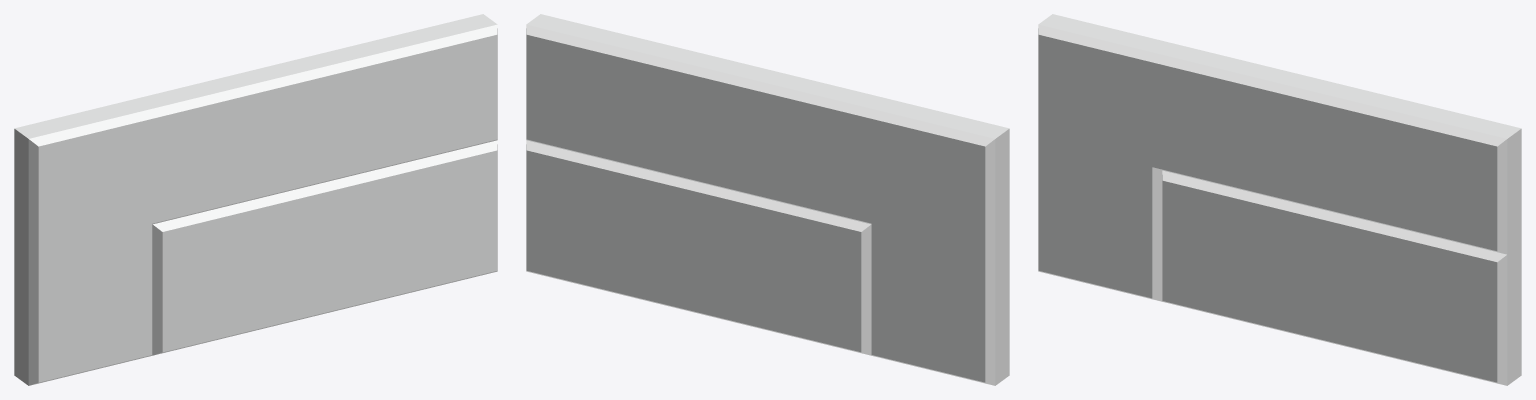
File: hinge.glb
3 renders of one model, left to right at view 1: azimuth 30°, elevation 25°; view 2: azimuth 150°, elevation 25°; view 3: azimuth 330°, elevation 25°, orthographic.
Visible parts, largest first — view 1: Hinge; view 2: Hinge; view 3: Hinge.
Part boxes in pixels (x1=…): Hinge: x1=14, y1=14, x2=497, y2=385; Hinge: x1=526, y1=14, x2=1009, y2=385; Hinge: x1=1038, y1=14, x2=1521, y2=385.
Size of the model in its own units: 0.3364 by 0.1693 by 0.0295.
1 material, 1 textured.
